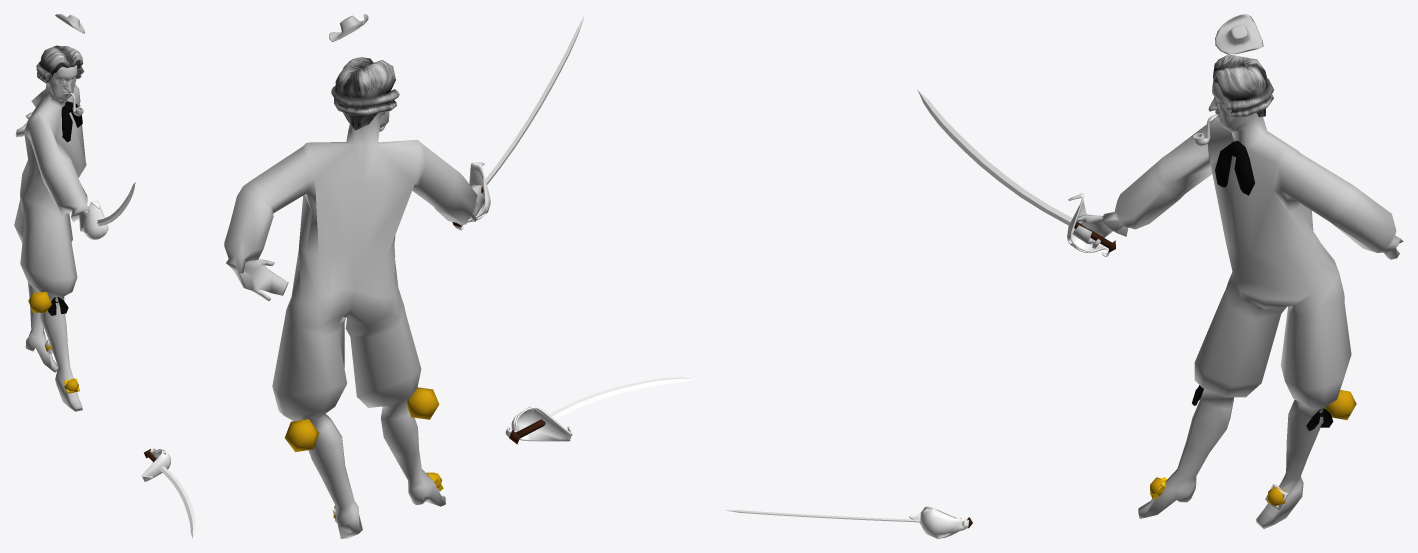
Rendered from miekkailija_charactermodels.fbx.
3 views of the same model, side by side, from view 1: azimuth 30°, elevation 25°; view 2: azimuth 150°, elevation 25°; view 3: azimuth 270°, elevation 25° (orthographic). The views are drawn at different scales.
Parts seen in each view (by area): view 1: ruho.King, peruuki_prettyboy, kori3, kori3.001, terä.001, kaularusetti, jalkapampula.R, terä, kingshattu, jalkarusetti.R; view 2: ruho.King, peruuki_prettyboy, kori3.001, terä.001, terä, jalkapampula.L, jalkapampula.R, kori3; view 3: ruho.King, peruuki_prettyboy, terä, kingshattu, kaularusetti, kori3.001.
Part boxes in pixels (x1=…): ruho.King: x1=14, y1=65, x2=89, y2=411; peruuki_prettyboy: x1=36, y1=45, x2=84, y2=83; kori3: x1=83, y1=200, x2=108, y2=239; kori3.001: x1=141, y1=448, x2=171, y2=481; terä.001: x1=159, y1=466, x2=195, y2=538; kaularusetti: x1=61, y1=101, x2=82, y2=142; jalkapampula.R: x1=28, y1=292, x2=51, y2=312; terä: x1=97, y1=182, x2=135, y2=226; kingshattu: x1=55, y1=14, x2=84, y2=33; jalkarusetti.R: x1=48, y1=297, x2=68, y2=315; ruho.King: x1=224, y1=111, x2=484, y2=538; peruuki_prettyboy: x1=331, y1=57, x2=399, y2=130; kori3.001: x1=505, y1=406, x2=572, y2=441; terä.001: x1=546, y1=377, x2=695, y2=424; terä: x1=485, y1=15, x2=584, y2=184; jalkapampula.L: x1=284, y1=419, x2=319, y2=452; jalkapampula.R: x1=407, y1=387, x2=439, y2=419; kori3: x1=454, y1=162, x2=490, y2=230; ruho.King: x1=1073, y1=81, x2=1403, y2=528; peruuki_prettyboy: x1=1213, y1=55, x2=1273, y2=117; terä: x1=917, y1=89, x2=1072, y2=225; kingshattu: x1=1215, y1=14, x2=1263, y2=54; kaularusetti: x1=1215, y1=140, x2=1254, y2=195; kori3.001: x1=909, y1=506, x2=968, y2=538.
Size of the model in its own units: 64.87 by 224 by 259.
